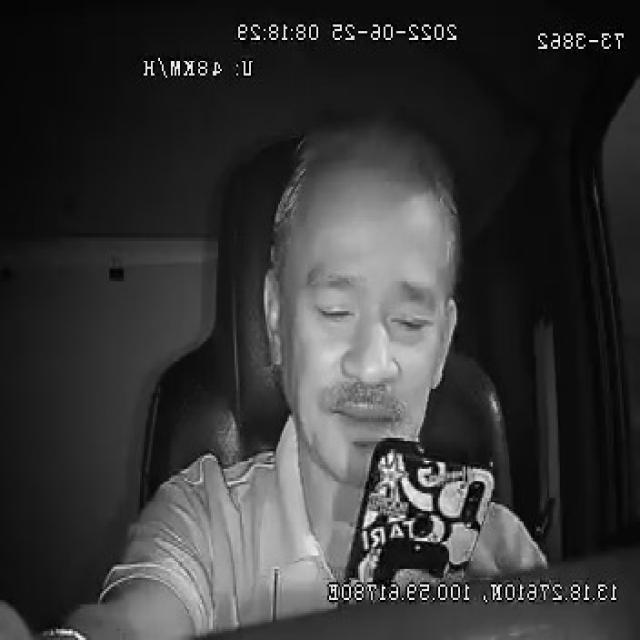phone: (346, 436, 498, 581)
